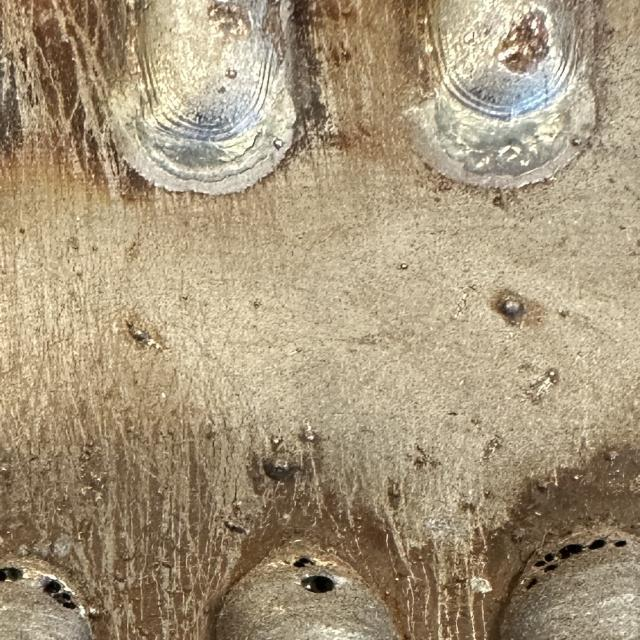Excess Reinforcement: (407, 76, 595, 188), (118, 105, 295, 194)
Porosity: (302, 575, 335, 592), (52, 591, 77, 609), (42, 578, 63, 595), (558, 544, 583, 558), (0, 566, 23, 581), (533, 552, 555, 567), (293, 556, 315, 568), (588, 539, 607, 550), (527, 578, 538, 589), (615, 540, 627, 547), (543, 565, 557, 571)
Spatters: (127, 321, 162, 350), (497, 294, 527, 324), (263, 459, 300, 481), (298, 424, 318, 442), (223, 521, 247, 534), (545, 369, 560, 384), (270, 436, 283, 450), (512, 529, 524, 544), (603, 450, 618, 461), (0, 462, 12, 474), (492, 195, 503, 208), (570, 135, 583, 146), (472, 416, 482, 428), (225, 69, 237, 79), (273, 139, 283, 150), (398, 264, 408, 270), (573, 474, 580, 481), (535, 511, 542, 516)
